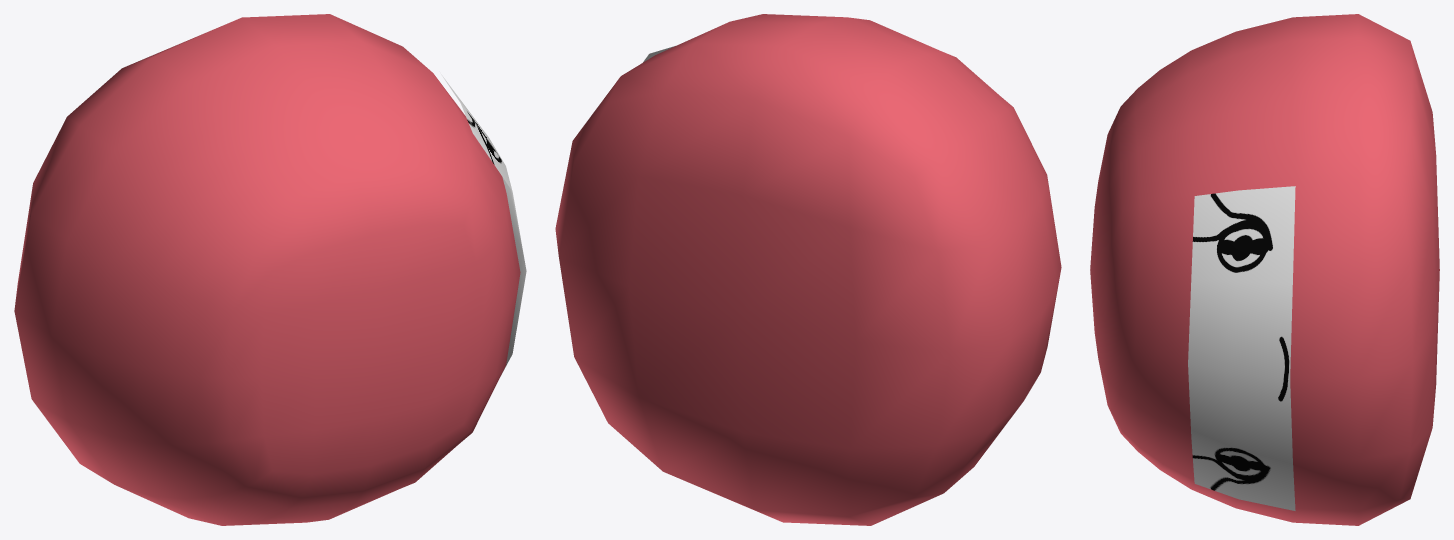
The model's file is CoffeSlime.fbx.
The picture shows the model from 3 angles, left to right: view 1: azimuth 30°, elevation 25°; view 2: azimuth 150°, elevation 25°; view 3: azimuth 270°, elevation 25°; orthographic projection. The views are drawn at different scales.
Visible parts, largest first — view 1: slime; view 2: slime; view 3: slime.
Part boxes in pixels (x1,y1,x2,y2): slime: [14, 14, 526, 525]; slime: [555, 14, 1061, 525]; slime: [1090, 14, 1439, 525].
Size of the model in its own units: 342 by 339 by 232.
2 materials, 1 textured.
